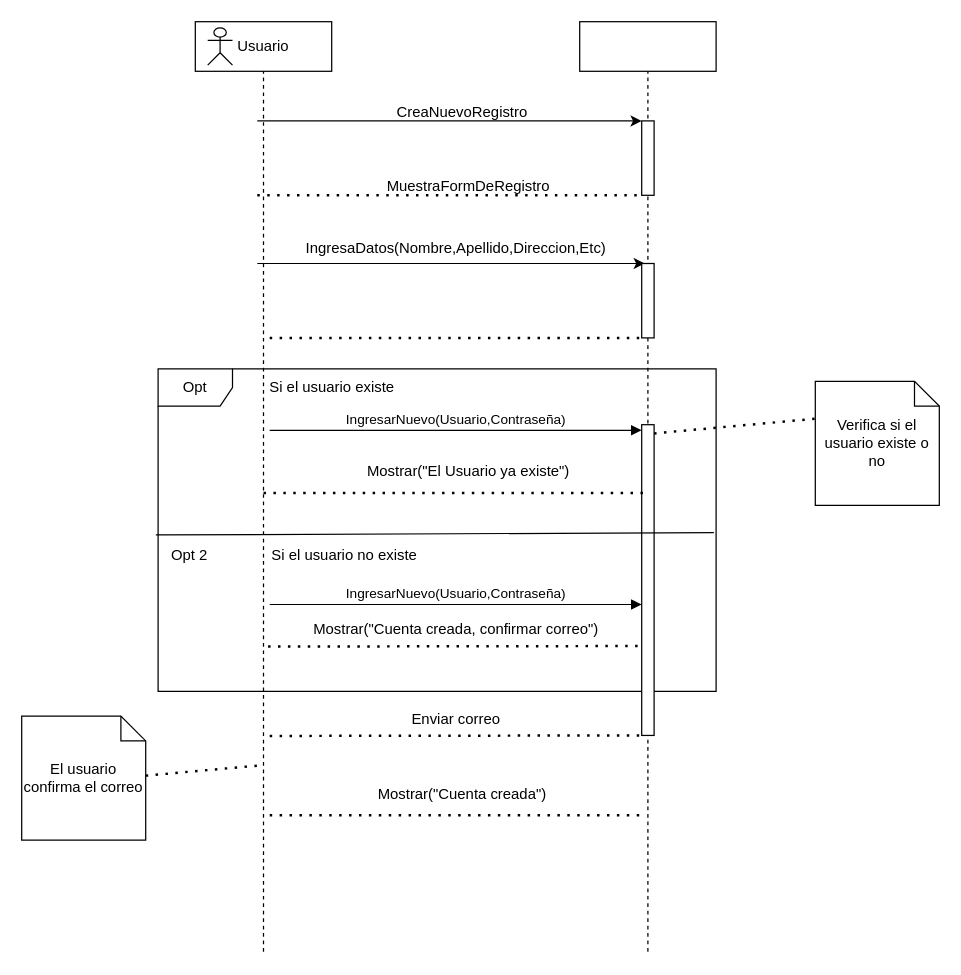
This 961x975 diagram has some shape labels left out. The centre of each missing label's shape, as x and y in pixels:
"Actor" goes at [219,46].
"Sistema" goes at [647,45].
